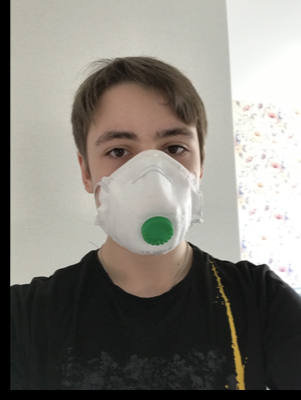with_mask: (88, 99, 202, 254)
